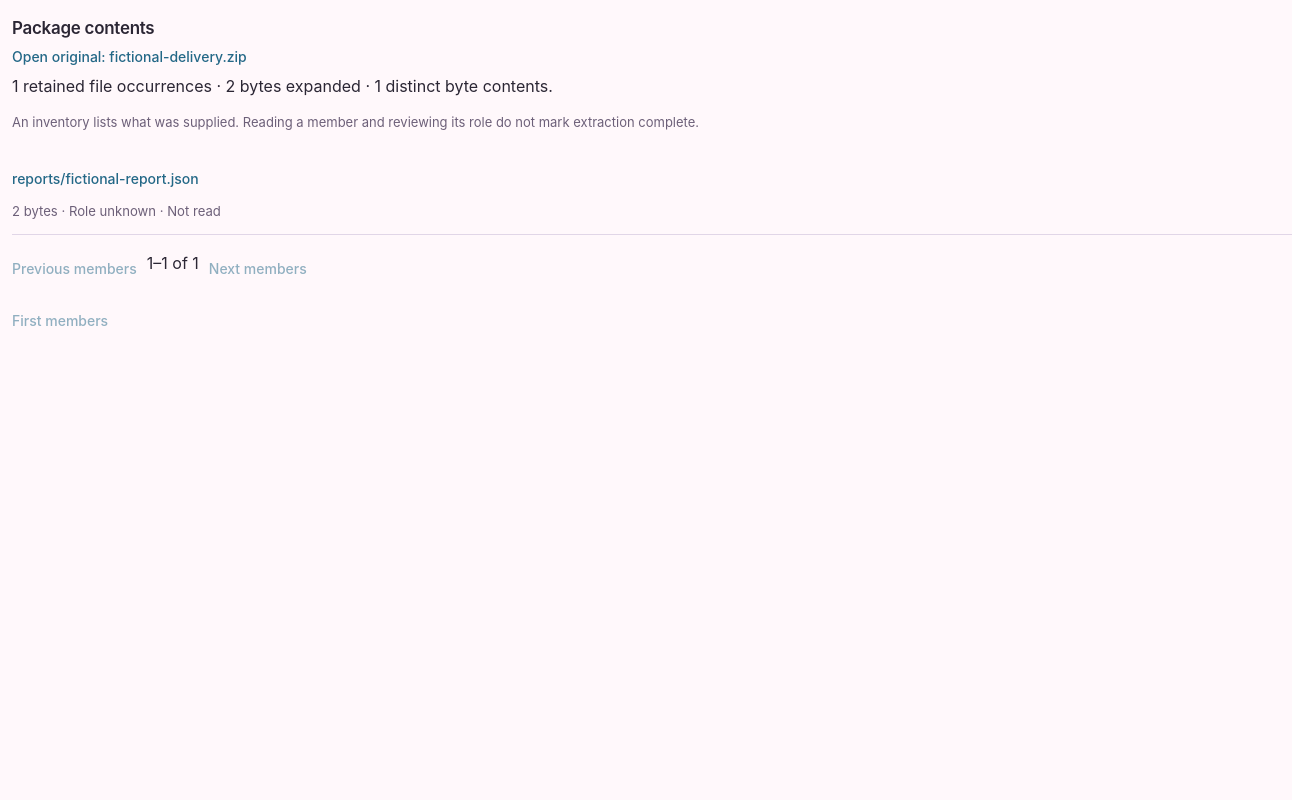
Scenario: clears selected detail, history and error when the intake version changes
The image size is (1292, 800).
Click the button "reports/fictional-report.json": (105, 179) [12,161,199,197]
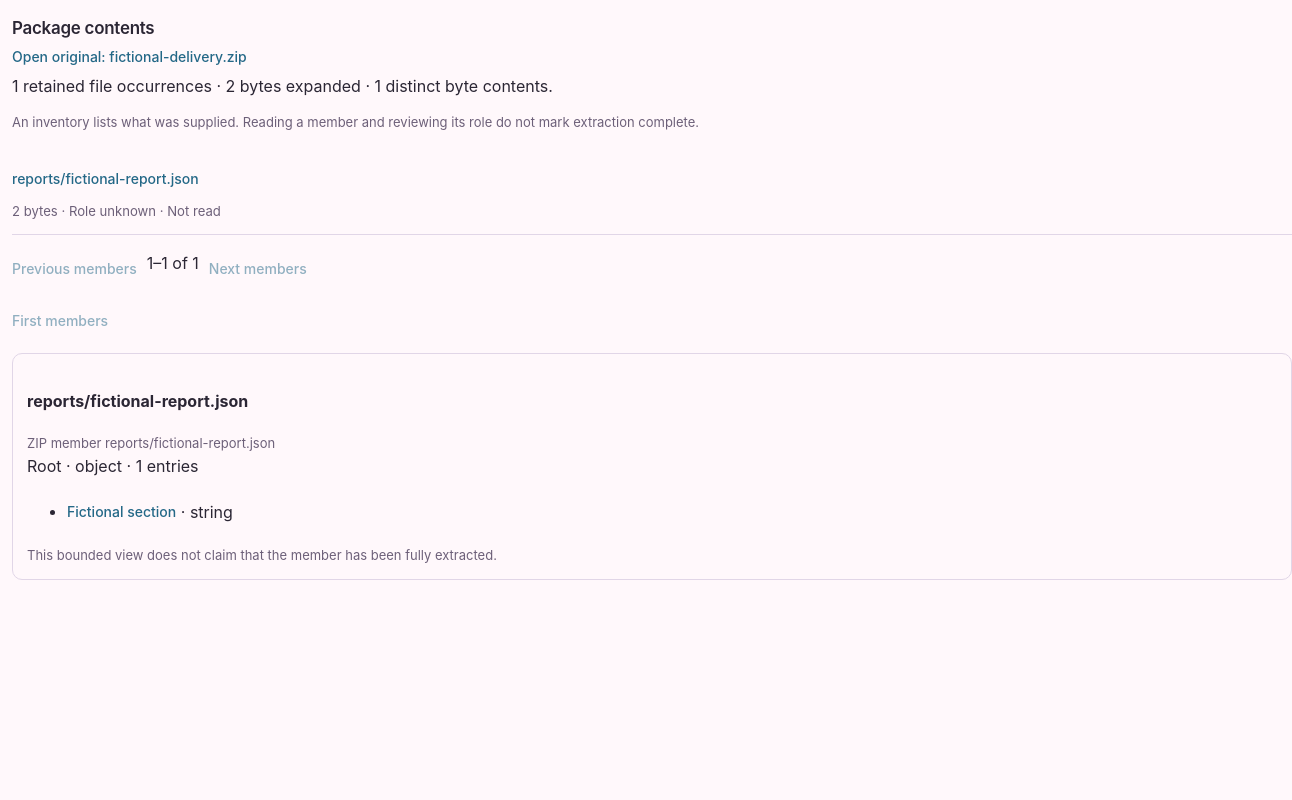
Click the button "Fictional section": (122, 512) [67,494,176,530]
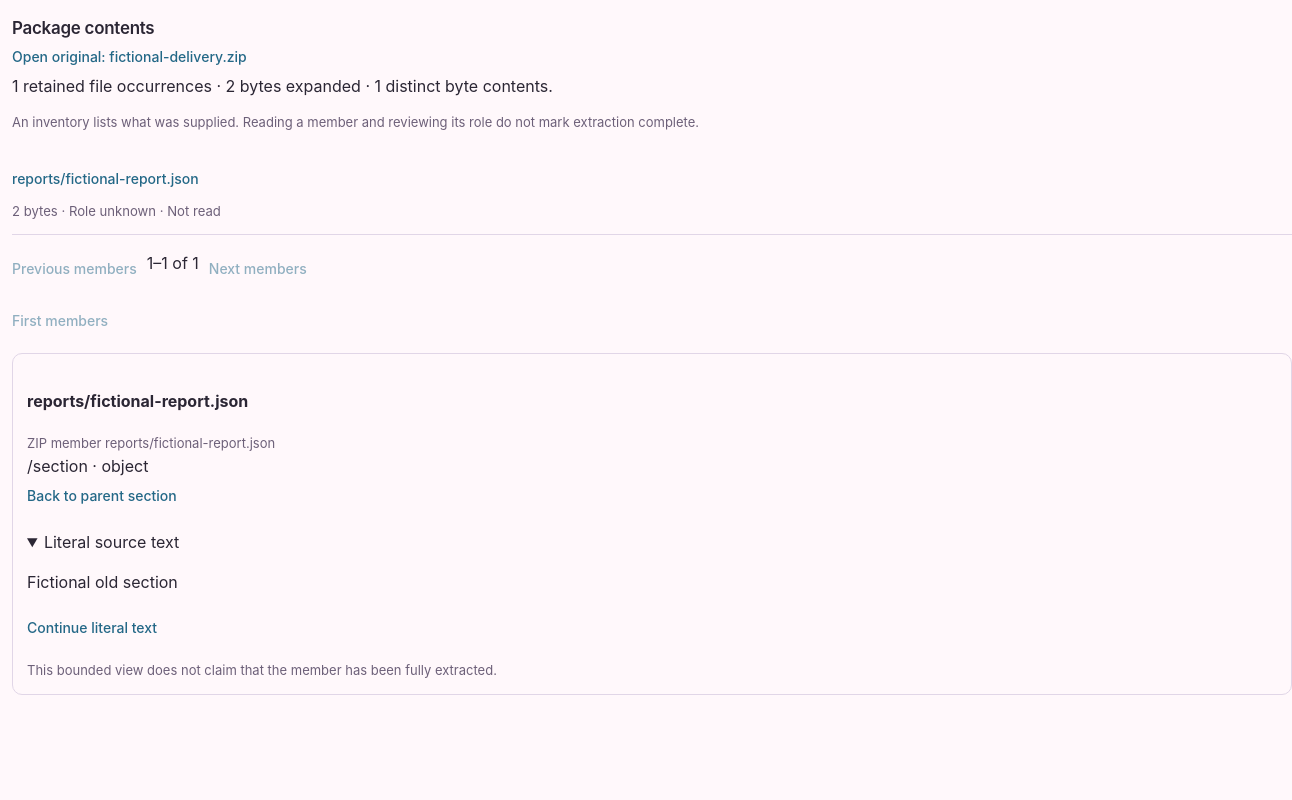
Check: the text "Fictional old section" is shown, box [27,572,178,592]
Check: the button "Back to parent section" is shown, box [27,478,177,514]
Click the button "Continue literal text": (92, 628) [27,610,157,646]
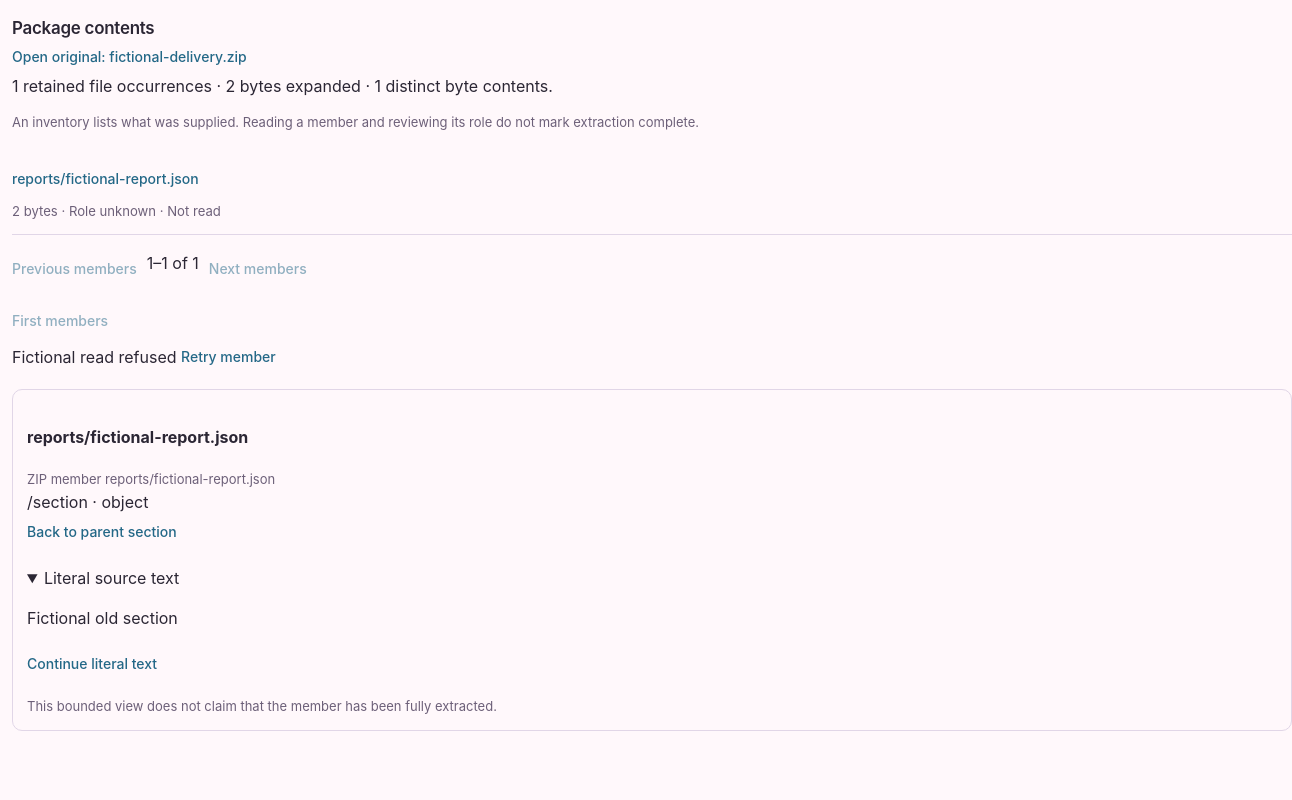
Check: the text "Fictional read refused" is shown, box [12,346,176,366]
